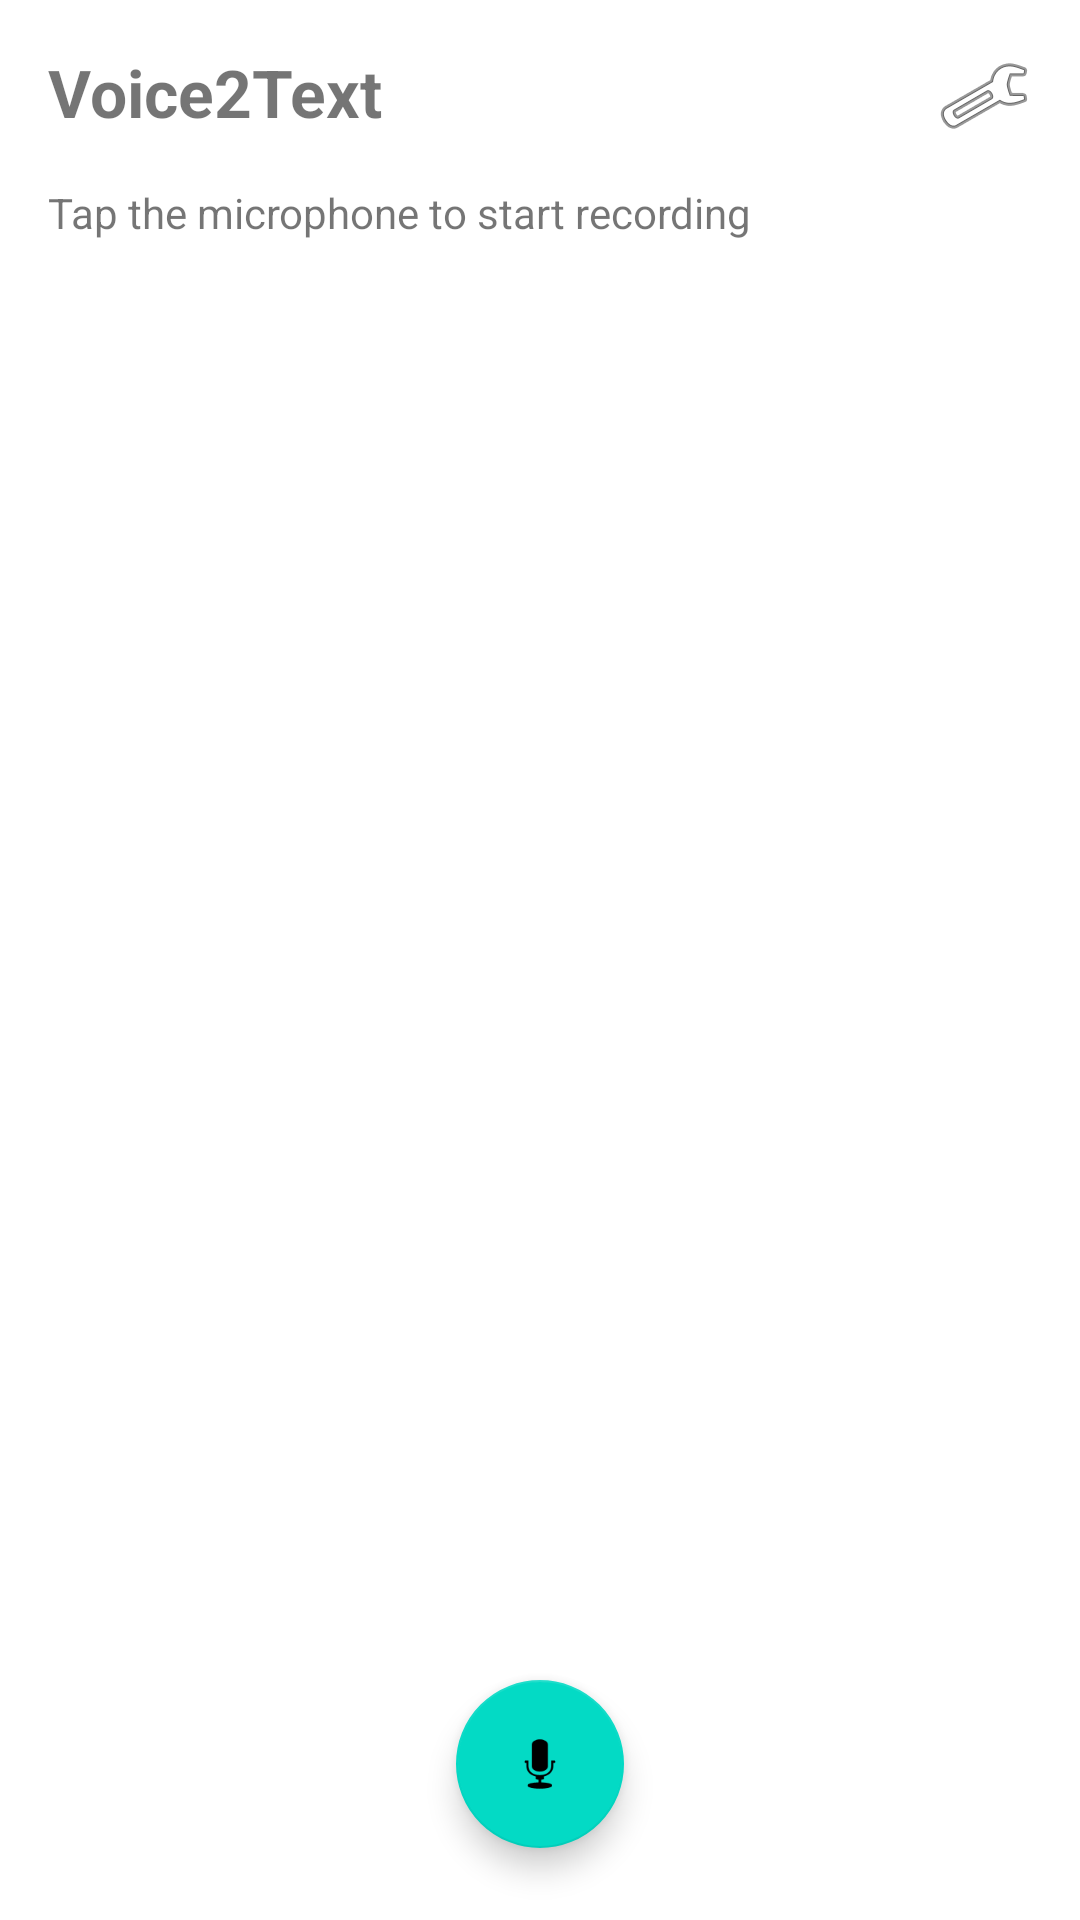

Icon click points for this 1080×1920 phone screenshot, format [x,y]:
Settings: [984,96]
Start recording: [540,1764]
